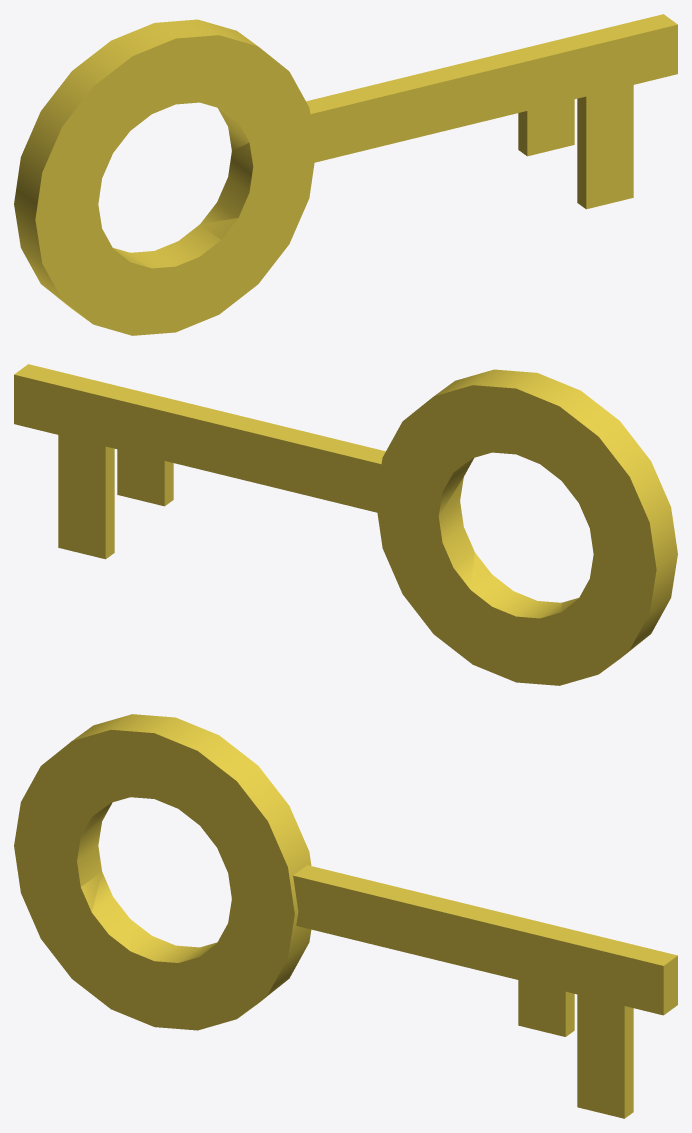
File: Key.fbx
3 views of the same model, one above another, from view 1: azimuth 30°, elevation 25°; view 2: azimuth 150°, elevation 25°; view 3: azimuth 330°, elevation 25° (orthographic).
Parts seen in each view (by area): view 1: pCylinder3, pCube1, pCube6, pCube5; view 2: pCylinder3, pCube1, pCube6, pCube5; view 3: pCylinder3, pCube1, pCube6, pCube5.
Boxes of the visible parts, x1,y1,x2,y2 form: pCylinder3: (14, 19, 316, 335); pCube1: (306, 14, 677, 162); pCube6: (577, 85, 633, 209); pCube5: (518, 99, 574, 156); pCylinder3: (375, 369, 677, 685); pCube1: (14, 364, 385, 512); pCube6: (58, 435, 114, 559); pCube5: (117, 449, 173, 506); pCylinder3: (14, 714, 311, 1030); pCube1: (293, 865, 677, 1015); pCube6: (577, 994, 633, 1118); pCube5: (518, 980, 574, 1036).
Size of the model in its own units: 6.67 by 2.9 by 0.3826.
